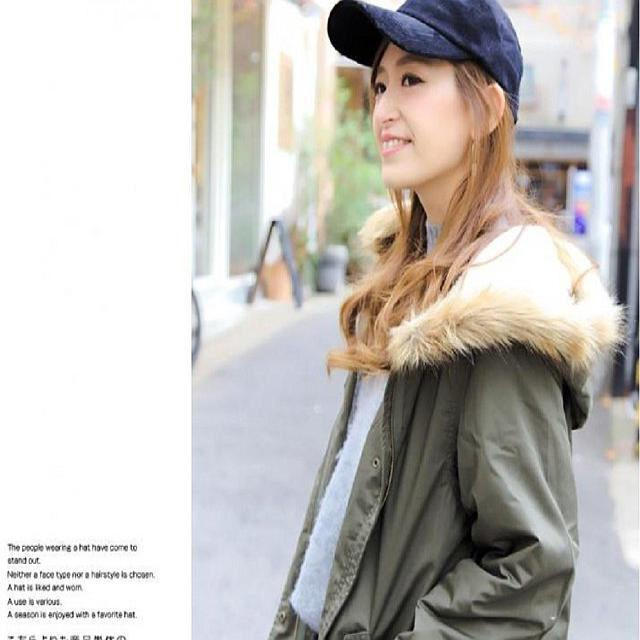3_gorra: (326, 0, 525, 92)
